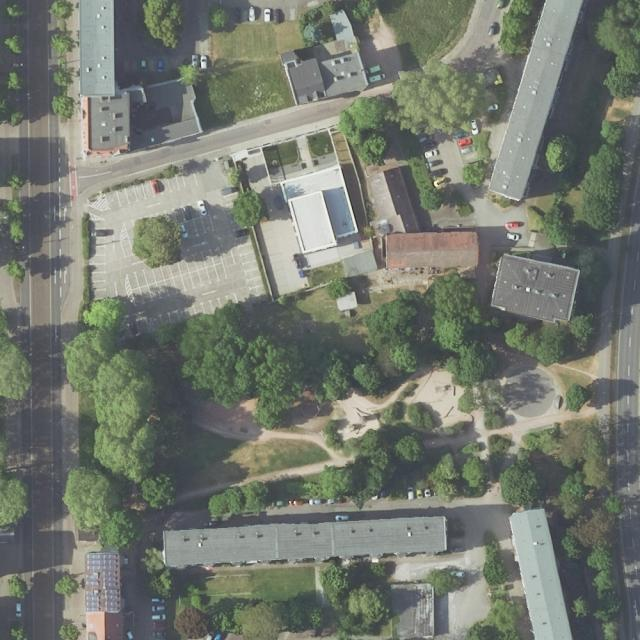PV: (86, 554, 119, 613)
